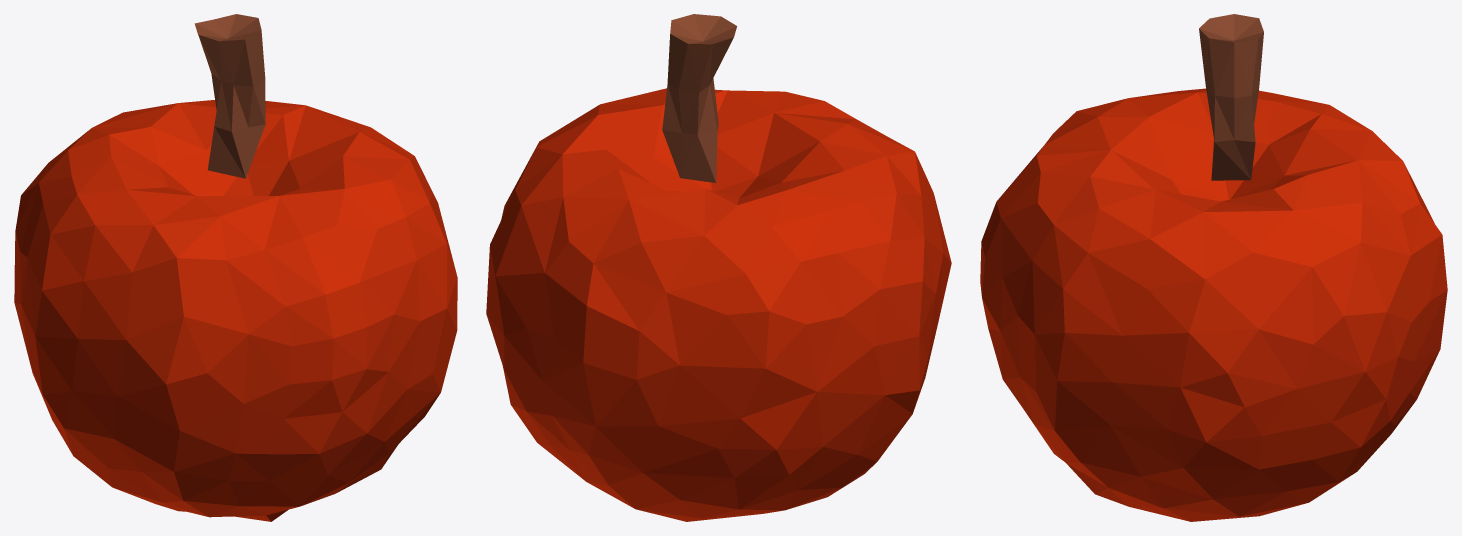
The model's file is item_apple.fbx.
The picture shows the model from 3 angles, left to right: view 1: azimuth 30°, elevation 25°; view 2: azimuth 150°, elevation 25°; view 3: azimuth 270°, elevation 25°; orthographic projection. The views are drawn at different scales.
Visible parts, largest first — view 1: item_apple; view 2: item_apple; view 3: item_apple.
Boxes of the visible parts, <box> form: item_apple: <box>14,14,457,521</box>; item_apple: <box>486,14,951,521</box>; item_apple: <box>980,14,1447,521</box>.
Bounding box in the file's own units: 19.64 × 21.64 × 19.69.
